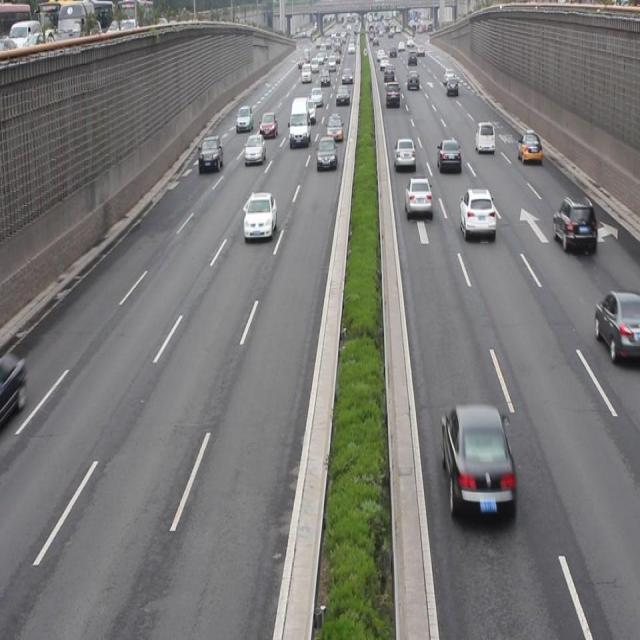car: (440, 399, 516, 523), (594, 289, 640, 356), (552, 194, 596, 254), (458, 186, 494, 241), (244, 191, 278, 242), (404, 176, 432, 216), (198, 134, 225, 175), (436, 139, 461, 173), (394, 136, 416, 172), (517, 130, 541, 163), (474, 120, 495, 154), (243, 133, 266, 163), (316, 136, 336, 170), (259, 110, 278, 138), (236, 103, 253, 134), (326, 112, 342, 140)
truck: (288, 97, 311, 146)
